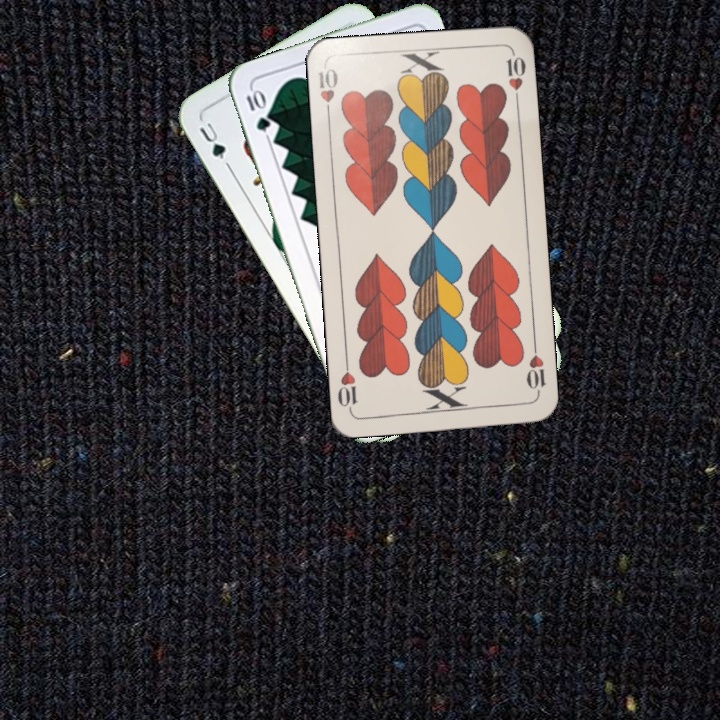G10: (242, 85, 273, 134)
GU: (195, 118, 229, 162)
H10: (314, 63, 341, 122), (522, 339, 548, 398)
